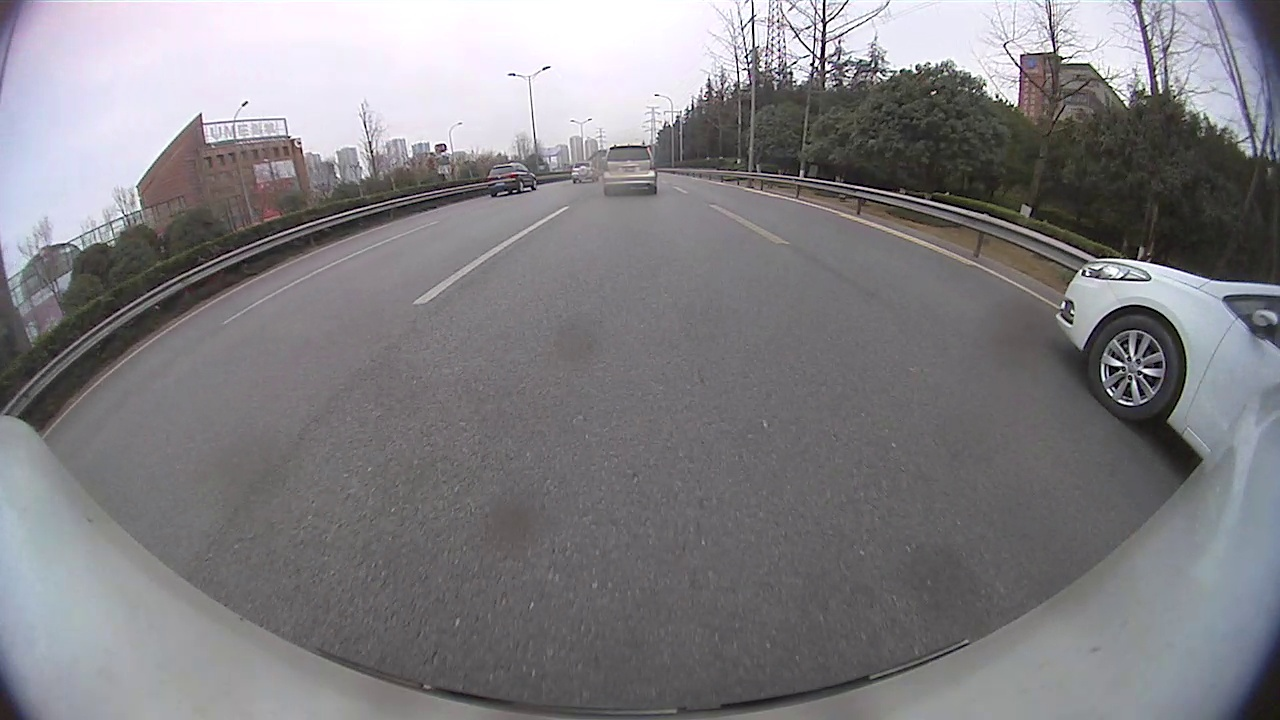car: (1052, 258, 1277, 462), (602, 144, 657, 193), (487, 162, 537, 197), (570, 160, 598, 183)
front: (1084, 315, 1182, 423)
